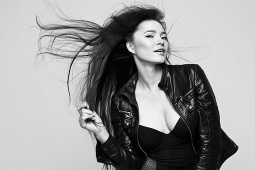female: (120, 16, 171, 68)
